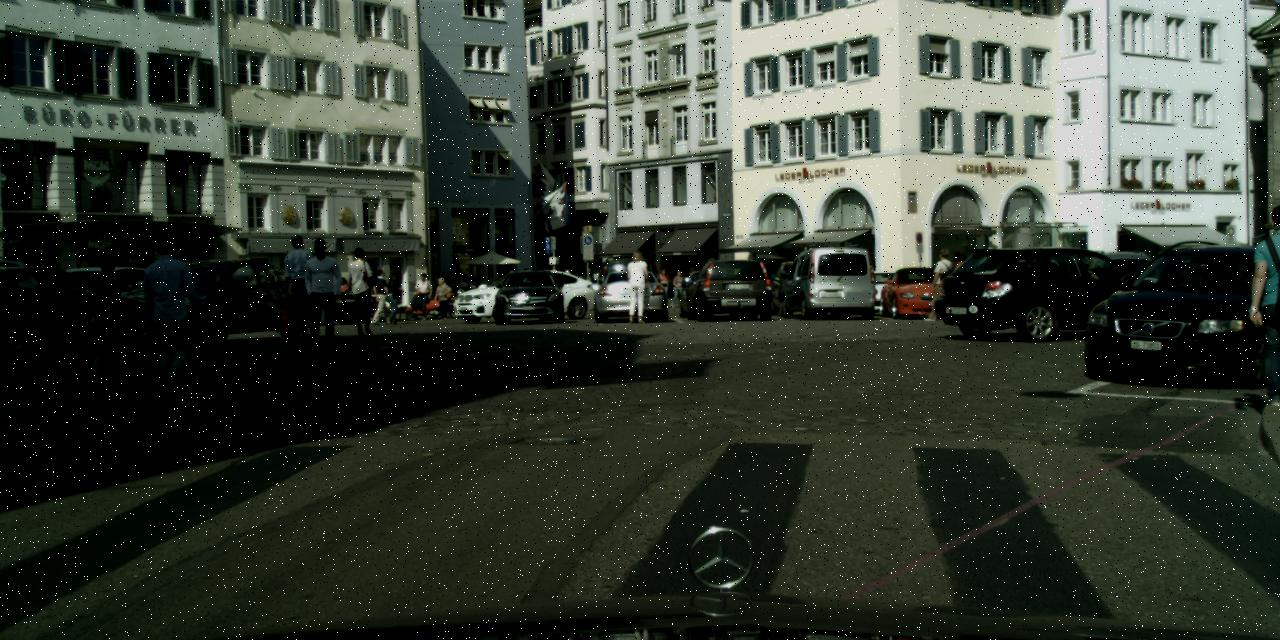ped: (134, 234, 202, 398), (79, 247, 140, 397), (1238, 204, 1279, 403), (296, 237, 342, 352), (276, 233, 319, 339), (344, 247, 378, 332), (621, 250, 651, 322), (928, 248, 957, 320), (948, 250, 973, 312), (370, 268, 392, 324), (382, 273, 402, 323), (413, 272, 432, 319), (433, 276, 450, 319), (334, 277, 350, 314), (656, 268, 672, 304), (686, 266, 702, 302), (670, 270, 685, 306), (561, 269, 573, 300)
